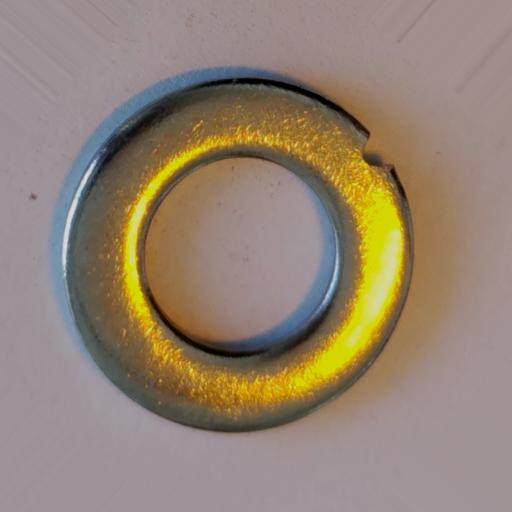burr: (359, 132, 394, 169)
